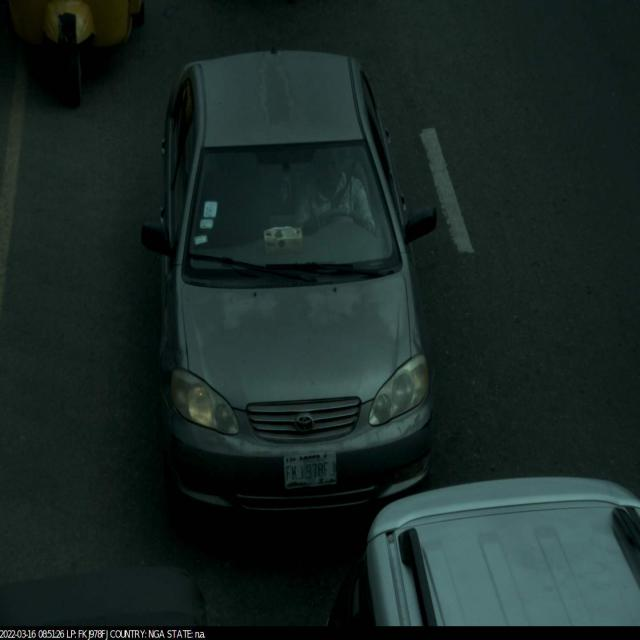windshield: (175, 134, 407, 294)
